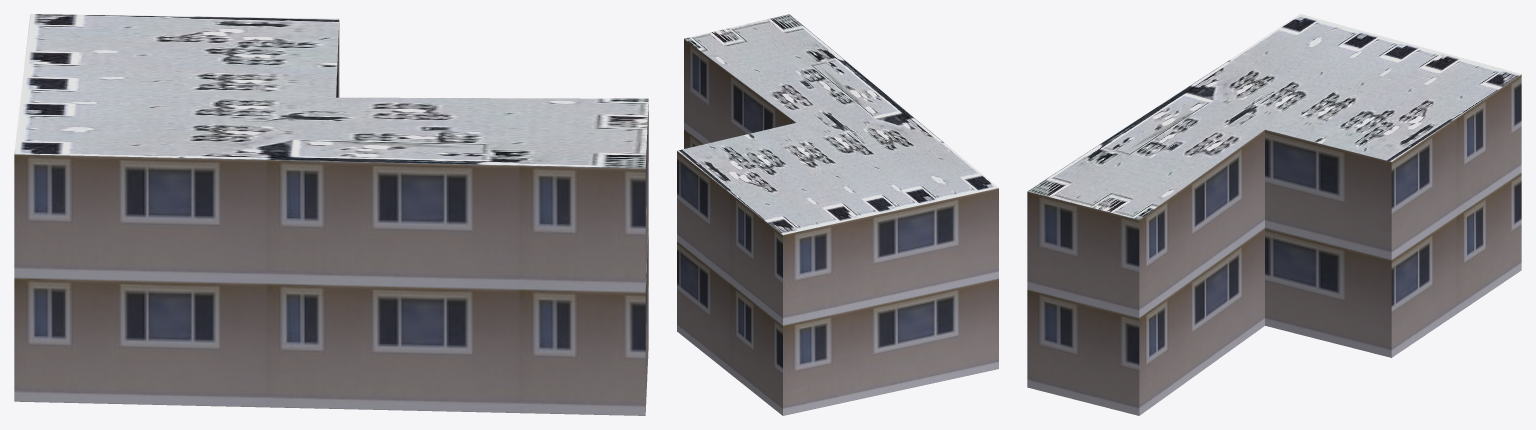
File: ResTex__5133.fbx
3 views of the same model, side by side, from view 1: azimuth 30°, elevation 25°; view 2: azimuth 150°, elevation 25°; view 3: azimuth 270°, elevation 25° (orthographic). The views are drawn at different scales.
Parts seen in each view (by area): view 1: CityEngineMaterial_21_m, CityEngineMaterial_m; view 2: CityEngineMaterial_21_m, CityEngineMaterial_m; view 3: CityEngineMaterial_21_m, CityEngineMaterial_m.
Part boxes in pixels (x1,y1,x2,y2): CityEngineMaterial_21_m: [14, 22, 648, 415]; CityEngineMaterial_m: [14, 14, 648, 168]; CityEngineMaterial_21_m: [677, 39, 998, 415]; CityEngineMaterial_m: [677, 14, 998, 234]; CityEngineMaterial_21_m: [1027, 74, 1521, 415]; CityEngineMaterial_m: [1027, 14, 1521, 219].
Size of the model in its own units: 13.52 by 6 by 13.72.
2 materials, 2 textured.
